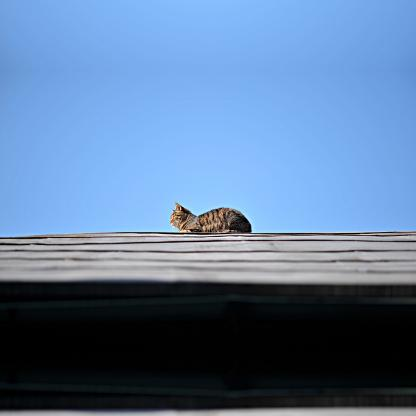Cat: (167, 200, 253, 234)
